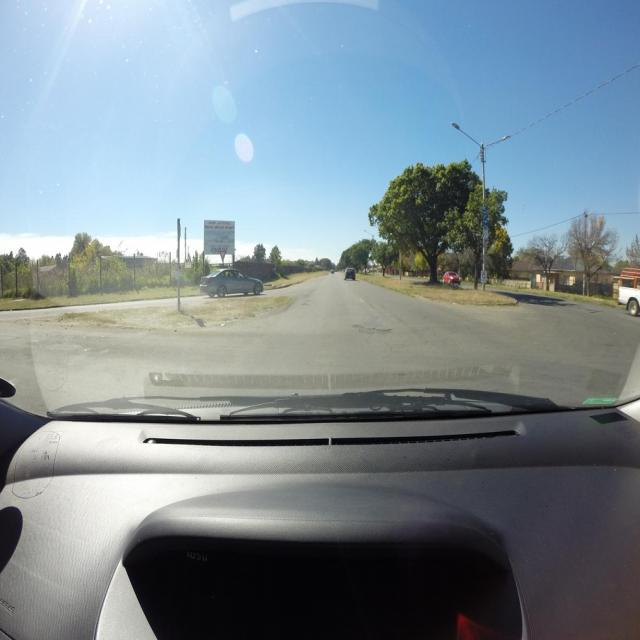Pothole: (353, 324, 392, 334), (301, 303, 309, 306)
